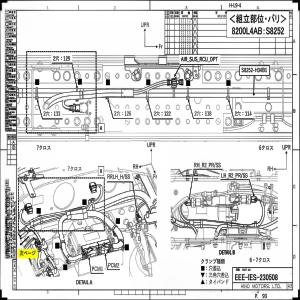PartNumber: (241, 67, 268, 73)
